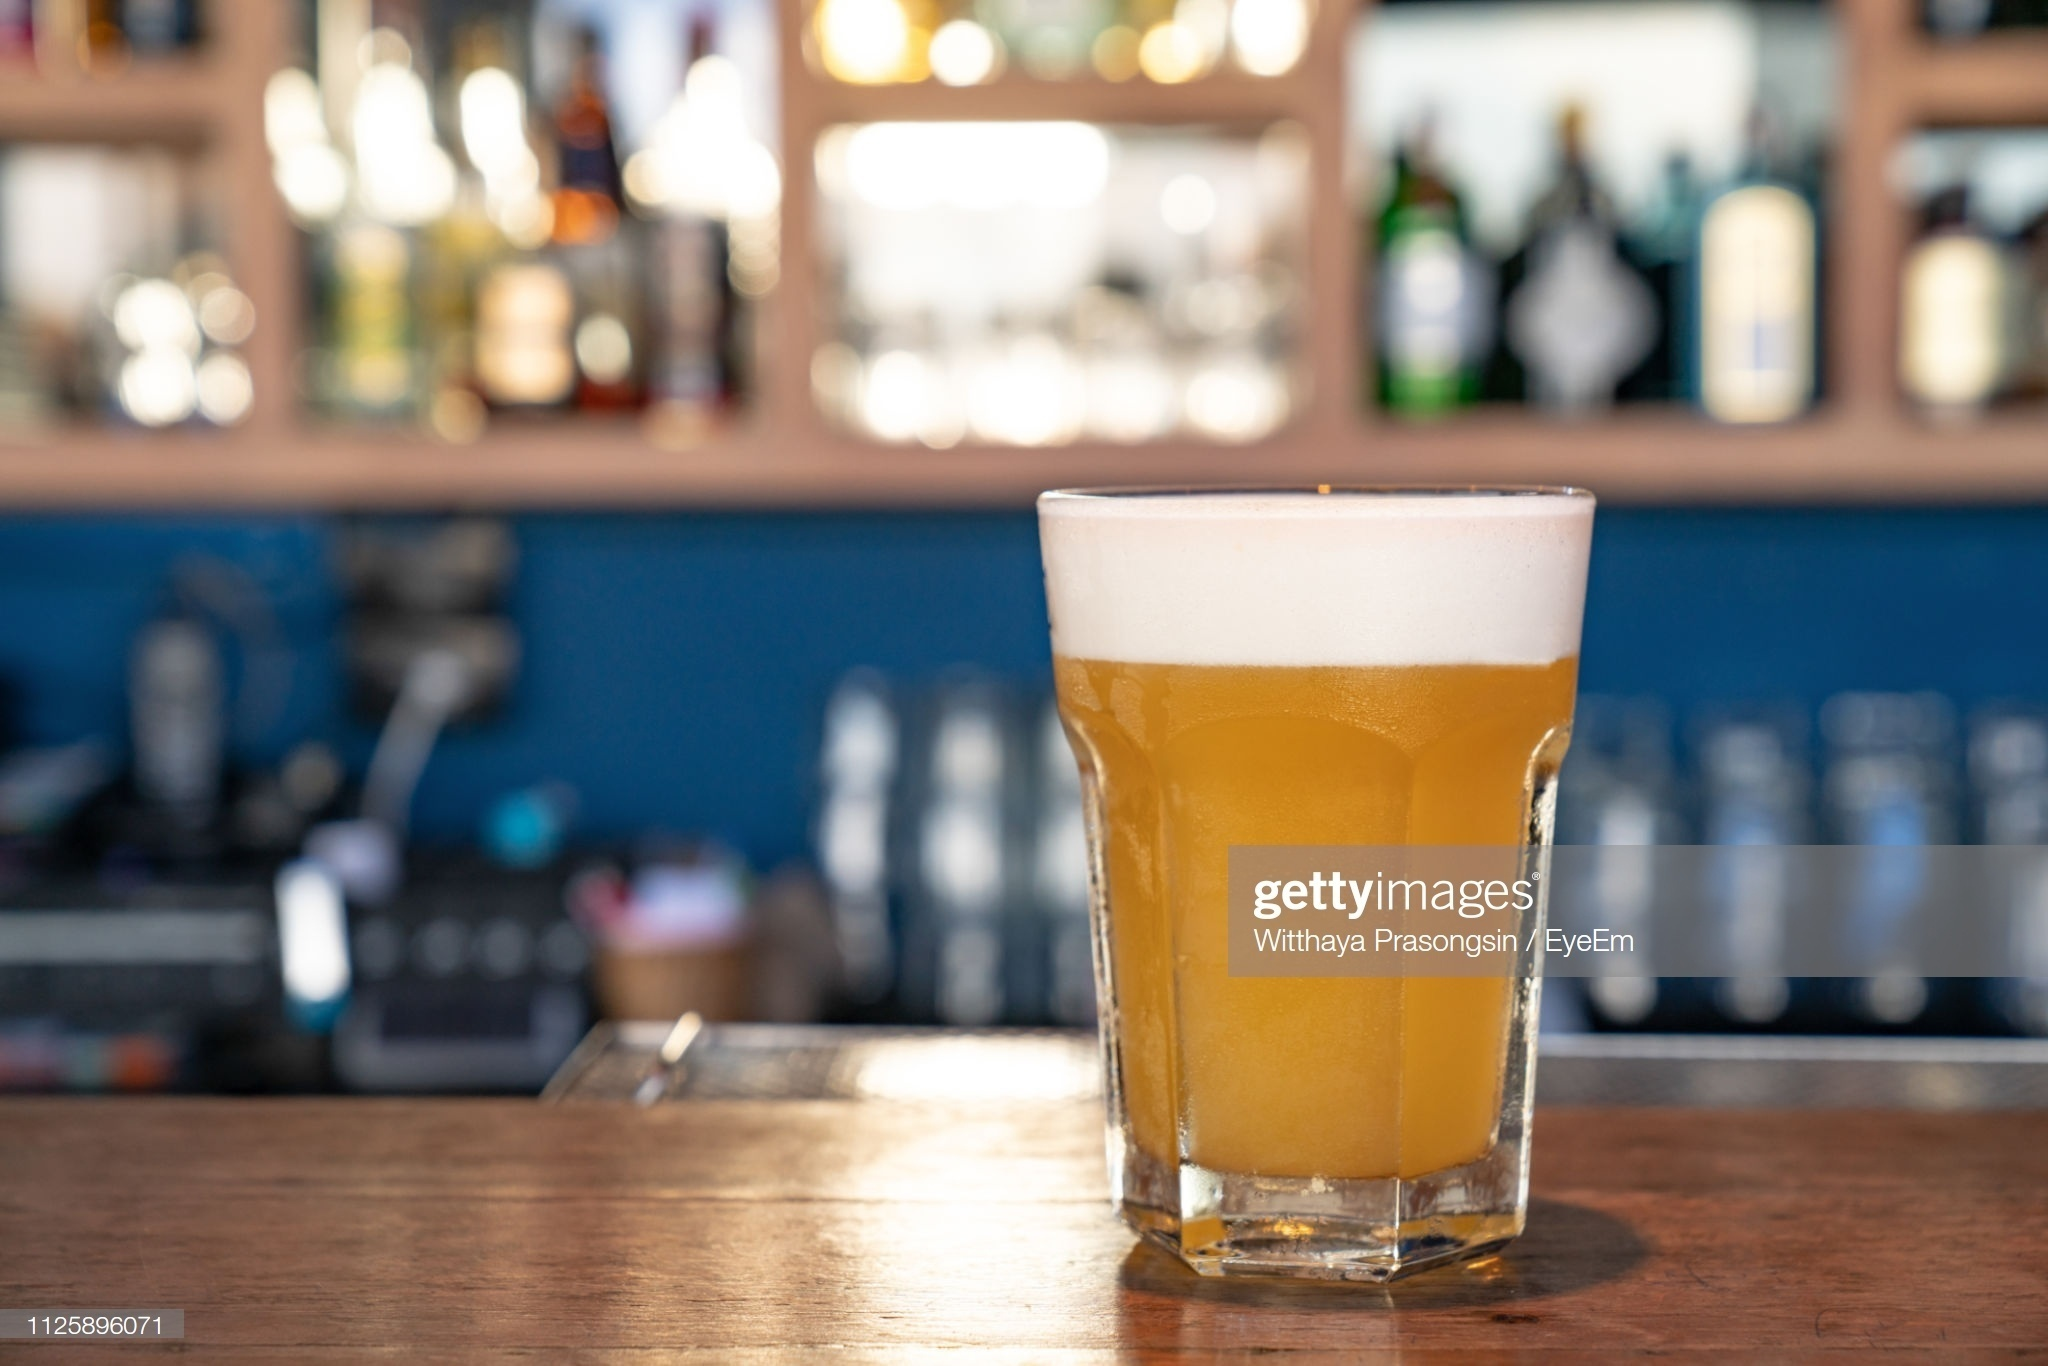whiskey: (1080, 492, 1582, 1268)
